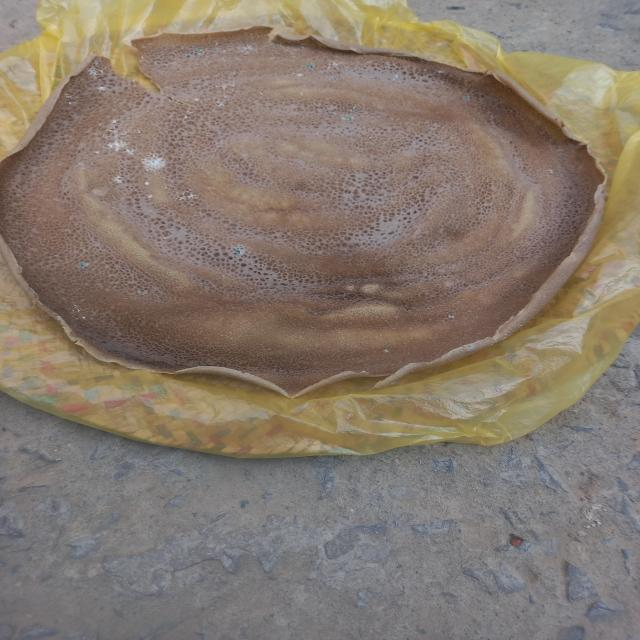injera_mold: (98, 120, 140, 157), (141, 151, 167, 174), (173, 187, 201, 206), (83, 60, 108, 80), (63, 304, 87, 322), (323, 59, 350, 72), (232, 41, 257, 54), (228, 244, 250, 258), (211, 95, 224, 109), (63, 91, 74, 105), (216, 82, 237, 89), (132, 290, 150, 298), (76, 259, 88, 270), (192, 46, 206, 55), (112, 175, 124, 184), (340, 115, 354, 122), (461, 94, 472, 102), (96, 84, 107, 92), (214, 48, 227, 54), (381, 348, 392, 355), (305, 63, 315, 70), (348, 106, 357, 113), (144, 193, 154, 199), (194, 96, 202, 103), (446, 314, 455, 319), (547, 169, 554, 175), (377, 104, 383, 110), (92, 150, 100, 154), (143, 181, 149, 186), (332, 77, 338, 81), (270, 44, 278, 47), (186, 55, 191, 59)
